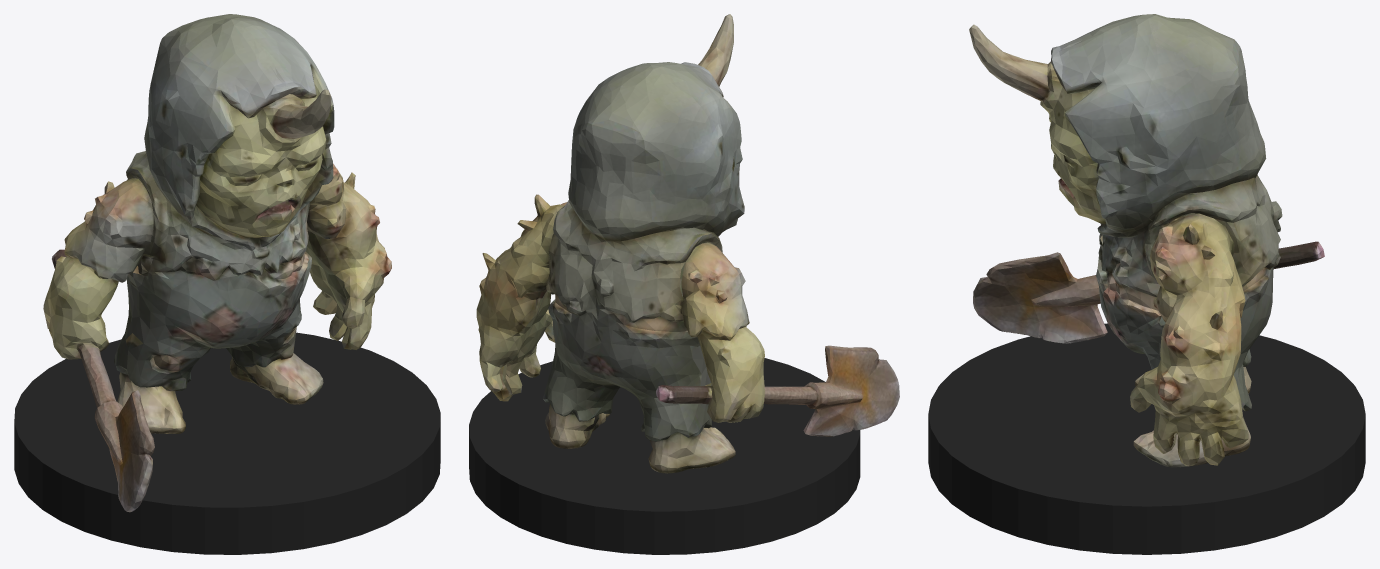
Rendered from poxwalker-b.glb.
3 views of the same model, side by side, from view 1: azimuth 30°, elevation 25°; view 2: azimuth 150°, elevation 25°; view 3: azimuth 270°, elevation 25° (orthographic). The views are drawn at different scales.
Visible parts, largest first — view 1: figure, base; view 2: figure, base; view 3: figure, base.
Part boxes in pixels (box(x1,y1,x2,y2)): figure: box(43, 14, 391, 512); base: box(14, 332, 440, 554); figure: box(476, 14, 899, 473); base: box(469, 358, 860, 554); figure: box(969, 14, 1324, 467); base: box(928, 323, 1365, 554).
Size of the model in its own units: 0.9843 by 1.12 by 0.9843.
Materials: 2 (1 with a texture image).
